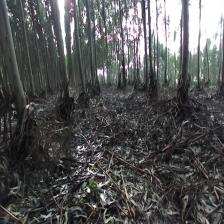trunk: (0, 0, 32, 121), (52, 5, 69, 100), (73, 8, 87, 91), (178, 3, 190, 95), (148, 3, 154, 79)
